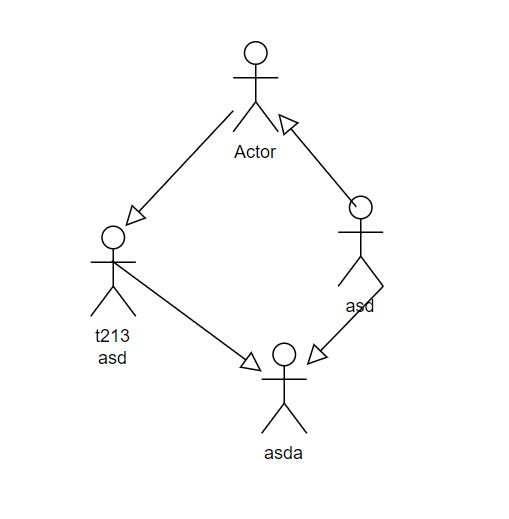actor: (261, 342, 307, 435), (234, 41, 279, 132), (92, 227, 135, 318), (339, 196, 381, 285)
generalization: (114, 262, 259, 371), (125, 111, 233, 225), (279, 115, 355, 206), (306, 285, 385, 365)
text: (91, 325, 131, 368), (258, 445, 310, 465), (232, 142, 277, 162), (348, 300, 376, 315)
